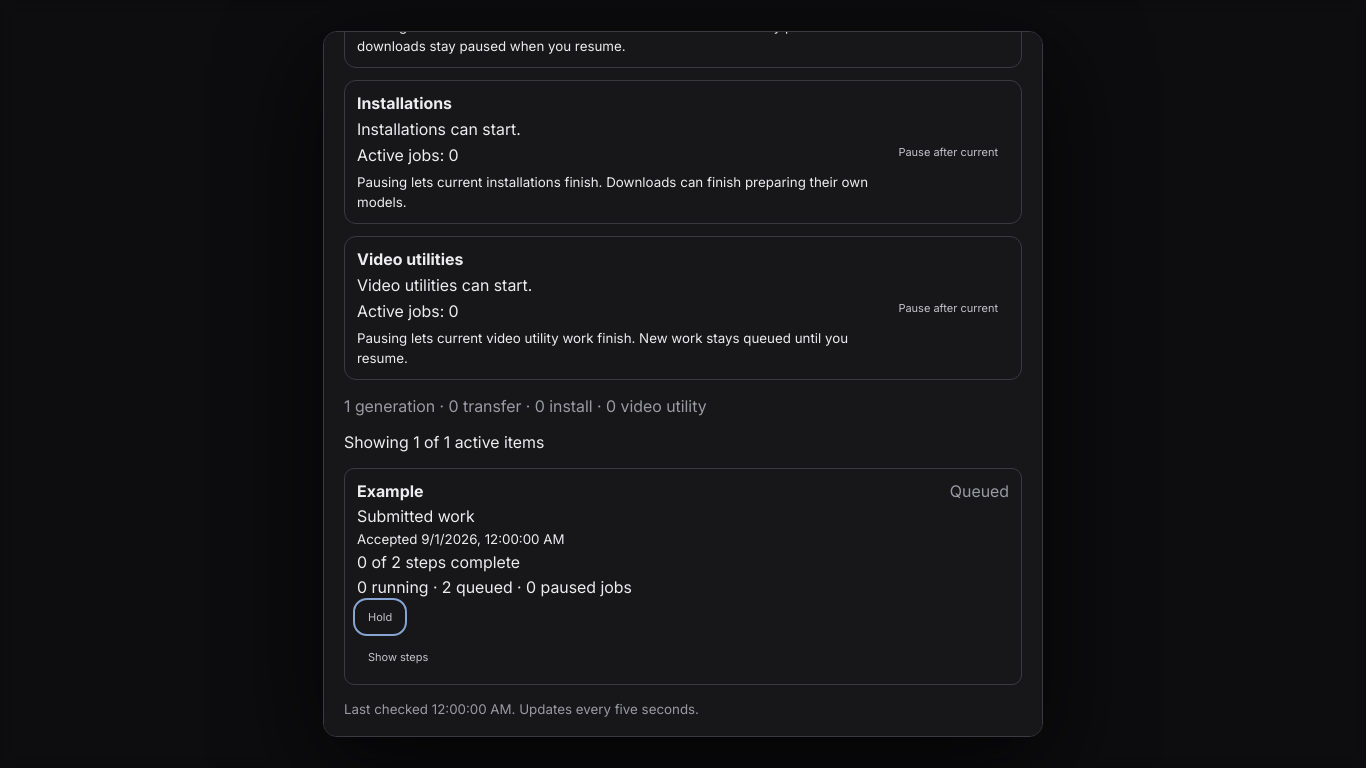
Test: holds and releases from authoritative state without losing button focus
The width and height of the screenshot is (1366, 768).
(page scrolled)
Step 1. Click the button with aria-label "Hold Example" → (380, 617), box [357,602,403,632]
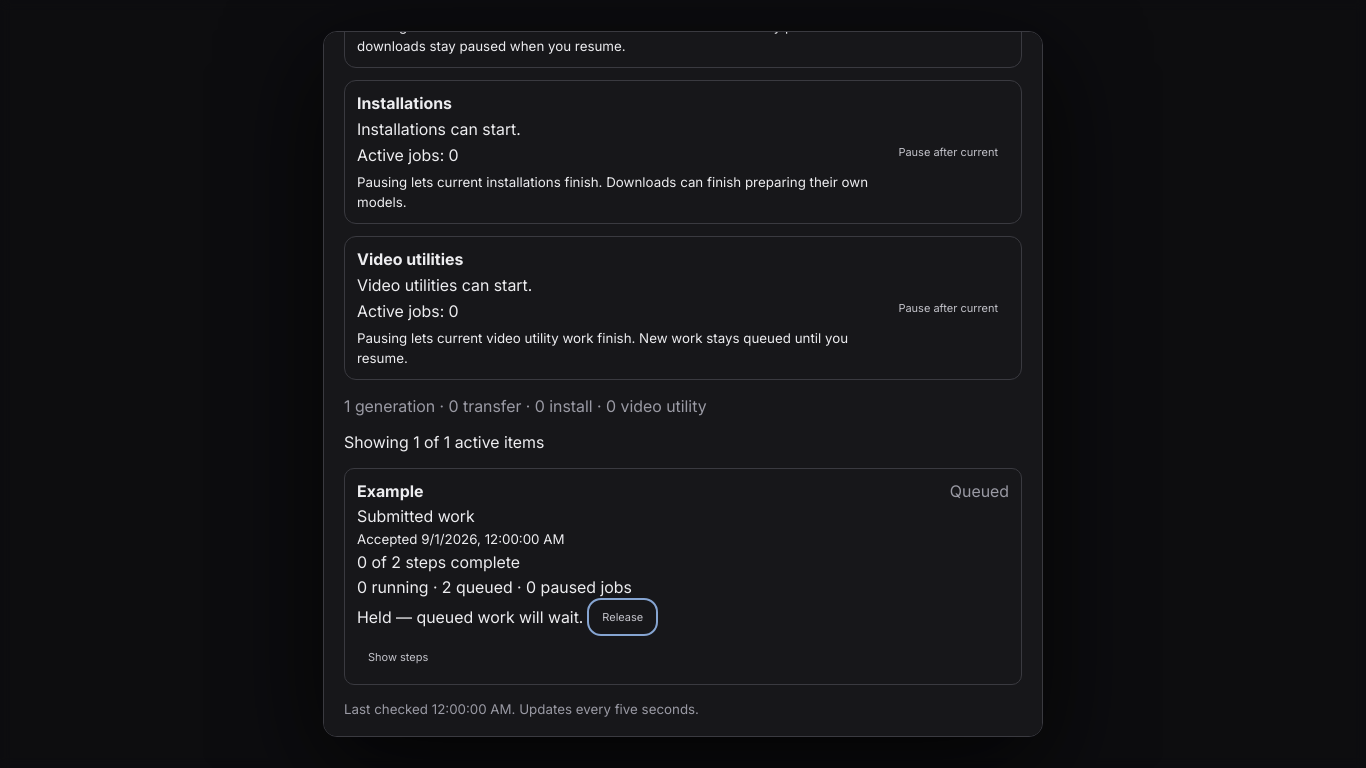
Result: the text "Held — queued work will wait." is shown at [357,607,583,627]
Step 2. Click the button with aria-label "Release Example" → (623, 617), box [591,602,654,632]
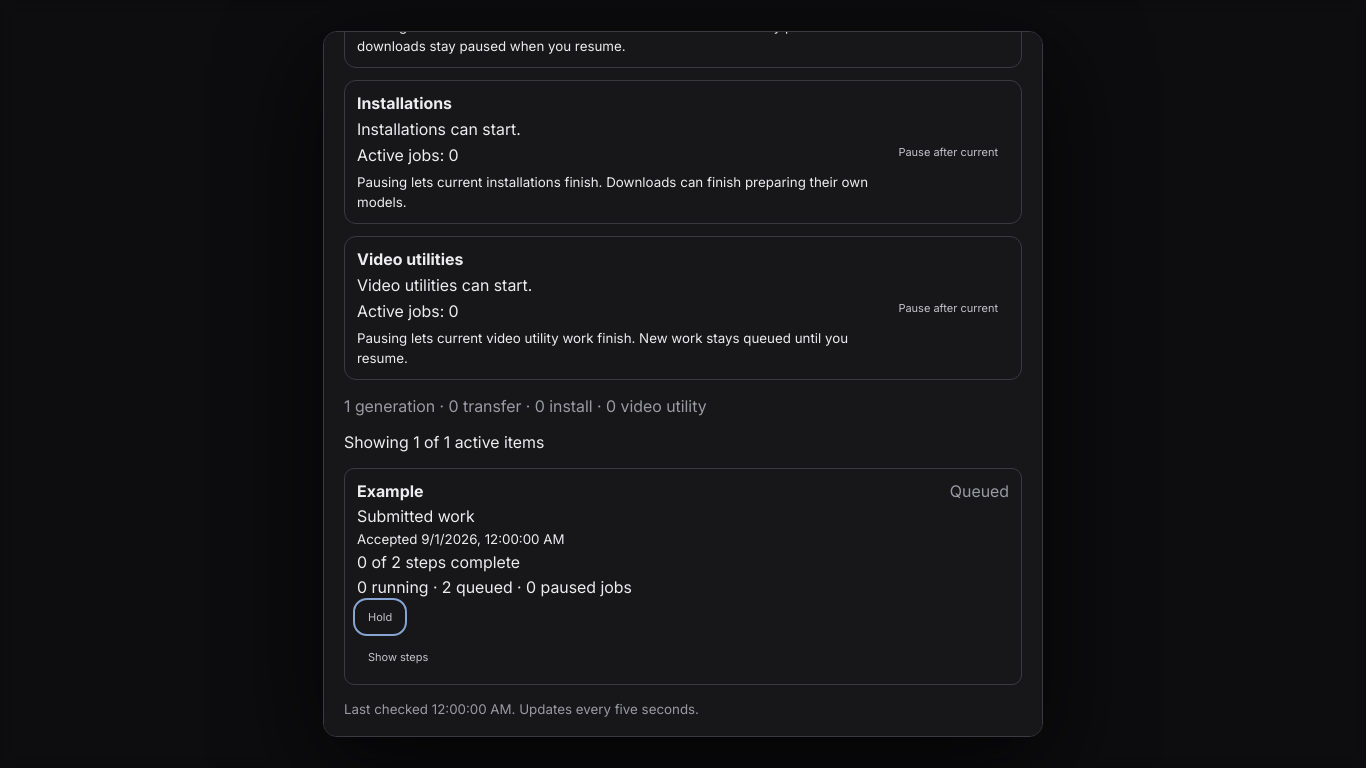
Result: the button with aria-label "Hold Example" is shown at [357,602,403,632]
Result: the text "Held — queued work will wait." is gone
